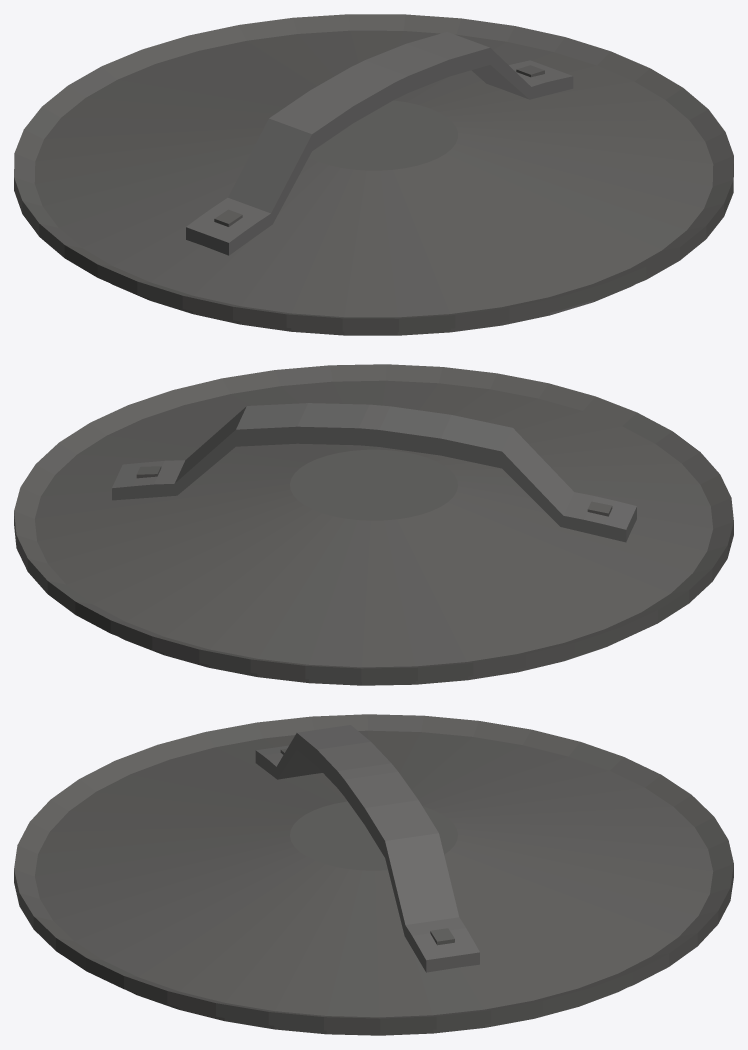
File: Large_Pot_Lid.fbx
The picture shows the model from 3 angles, top to bottom: view 1: azimuth 30°, elevation 25°; view 2: azimuth 150°, elevation 25°; view 3: azimuth 270°, elevation 25°; orthographic projection.
Parts seen in each view (by area): view 1: Cube.002; view 2: Cube.002; view 3: Cube.002.
Boxes of the visible parts, x1,y1,x2,y2 form: Cube.002: [14, 14, 733, 335]; Cube.002: [14, 364, 733, 685]; Cube.002: [14, 714, 733, 1035].
Size of the model in its own units: 25.46 by 4.74 by 25.46.
